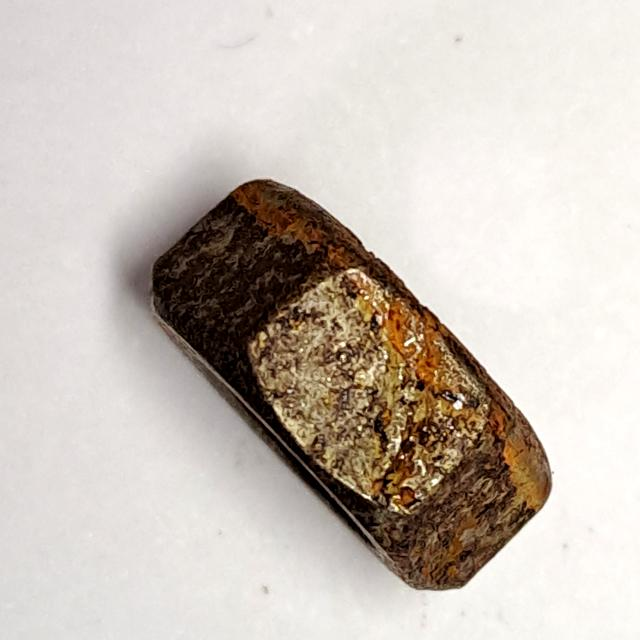Side_Rust: (136, 164, 567, 601)
